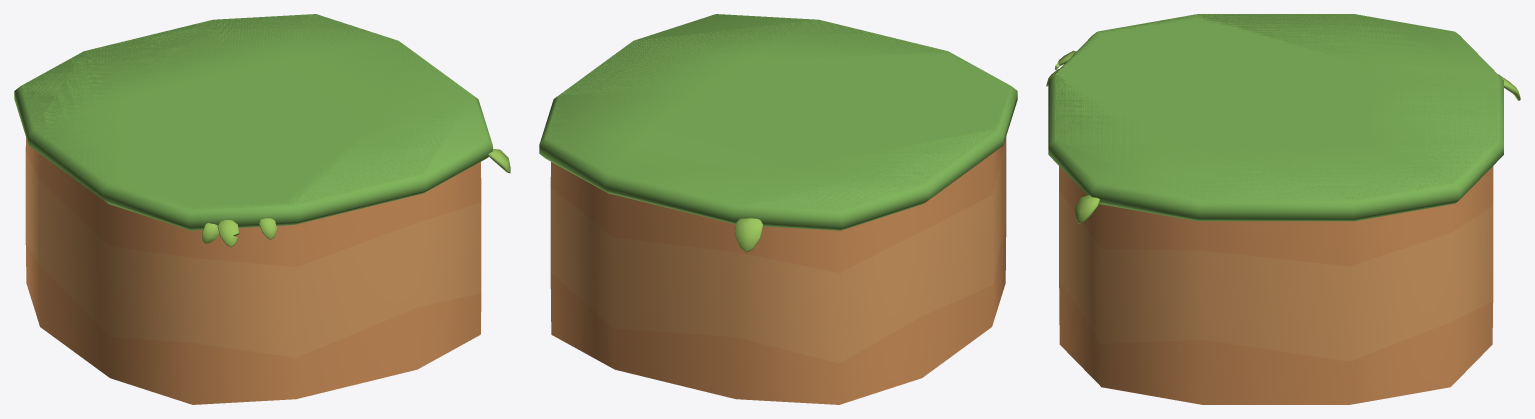
File: ground 02.fbx
3 views of the same model, side by side, from view 1: azimuth 30°, elevation 25°; view 2: azimuth 150°, elevation 25°; view 3: azimuth 270°, elevation 25° (orthographic). The views are drawn at different scales.
Parts seen in each view (by area): view 1: ground 02, ground 02 low; view 2: ground 02, ground 02 low; view 3: ground 02, ground 02 low.
Boxes of the visible parts, box(x1,y1,x2,y2) form: ground 02: box(14, 14, 510, 404); ground 02 low: box(22, 14, 472, 210); ground 02: box(539, 14, 1017, 404); ground 02 low: box(546, 20, 1011, 210); ground 02: box(1046, 14, 1520, 404); ground 02 low: box(1055, 14, 1496, 200).
Bounding box in the file's own units: 420 × 210 × 437.
Materials: 1 (1 with a texture image).
